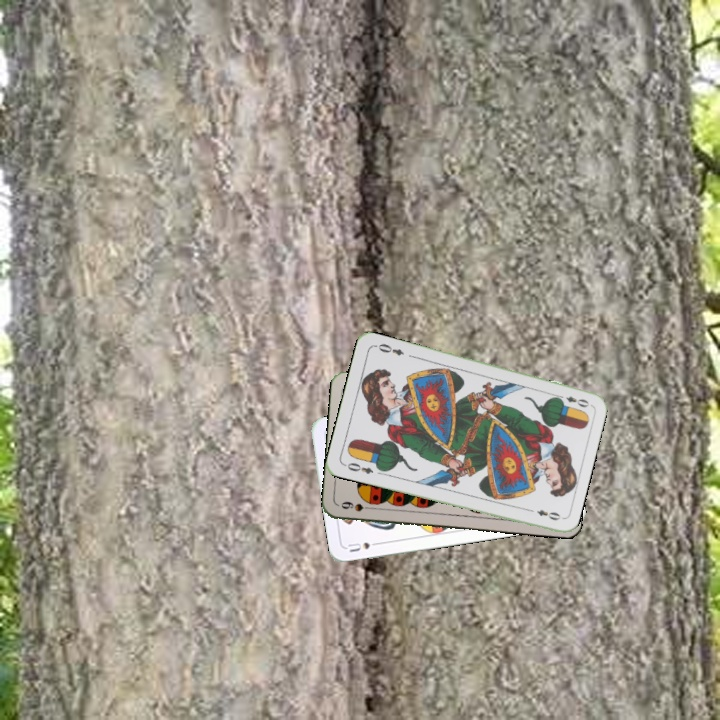EO: (552, 391, 592, 410), (340, 458, 376, 477)
S9: (337, 498, 377, 514)
SU: (344, 538, 384, 555)
